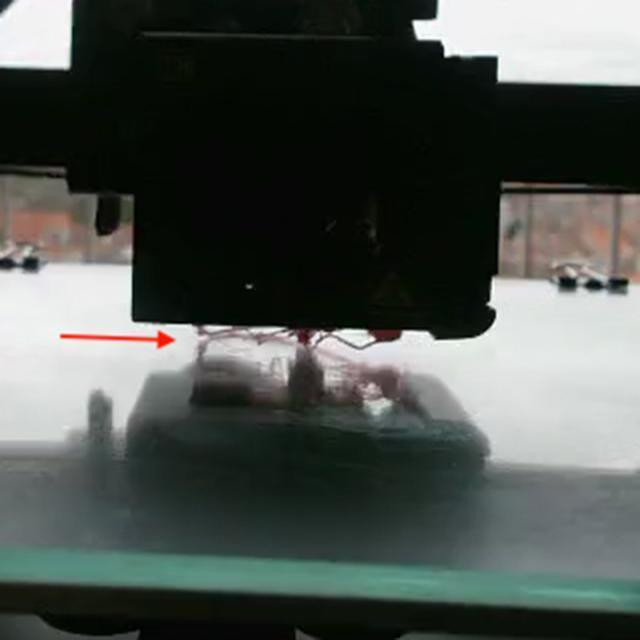spaghetti: (197, 324, 382, 353)
